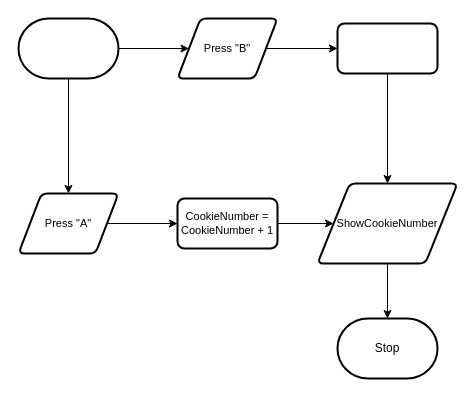
Image size: 475x396. Some labels were removed from this diagram. The centre of each missing label's shape, as x and y in pixels:
"CookieNumber = 0" goes at [387,48].
"Start" goes at [68,48].
